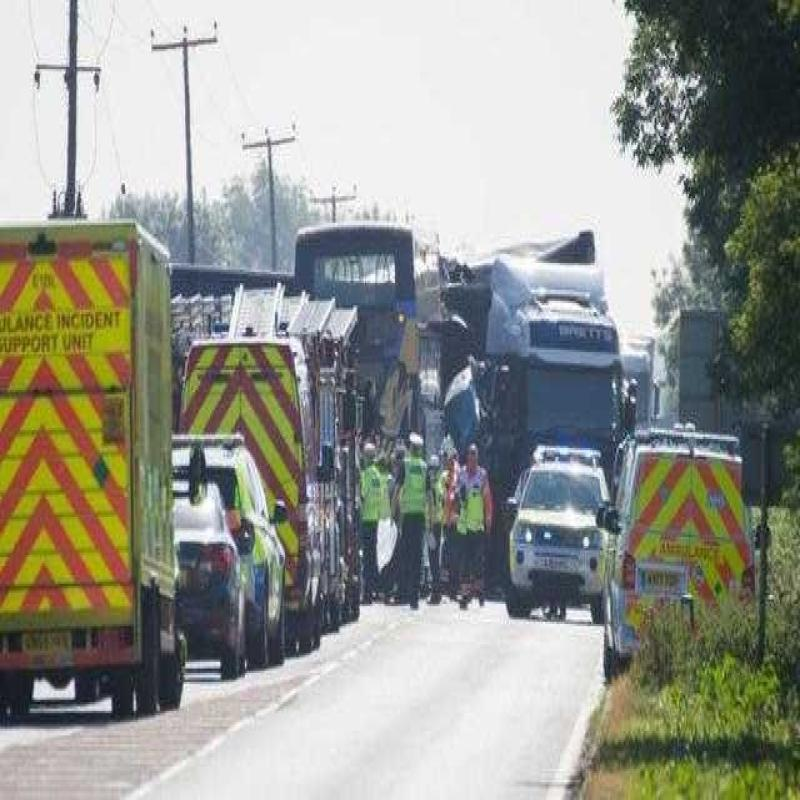bus: (458, 206, 636, 687), (6, 203, 155, 703)
